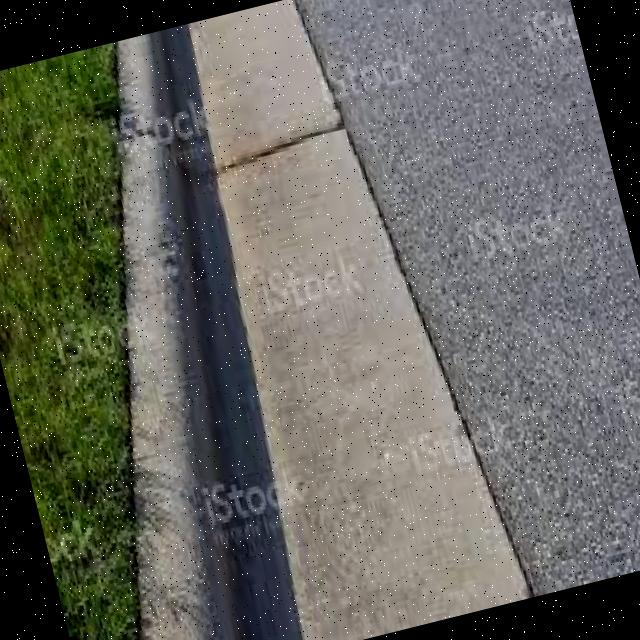curb: (94, 252, 292, 563), (93, 23, 252, 272), (122, 529, 294, 640)
